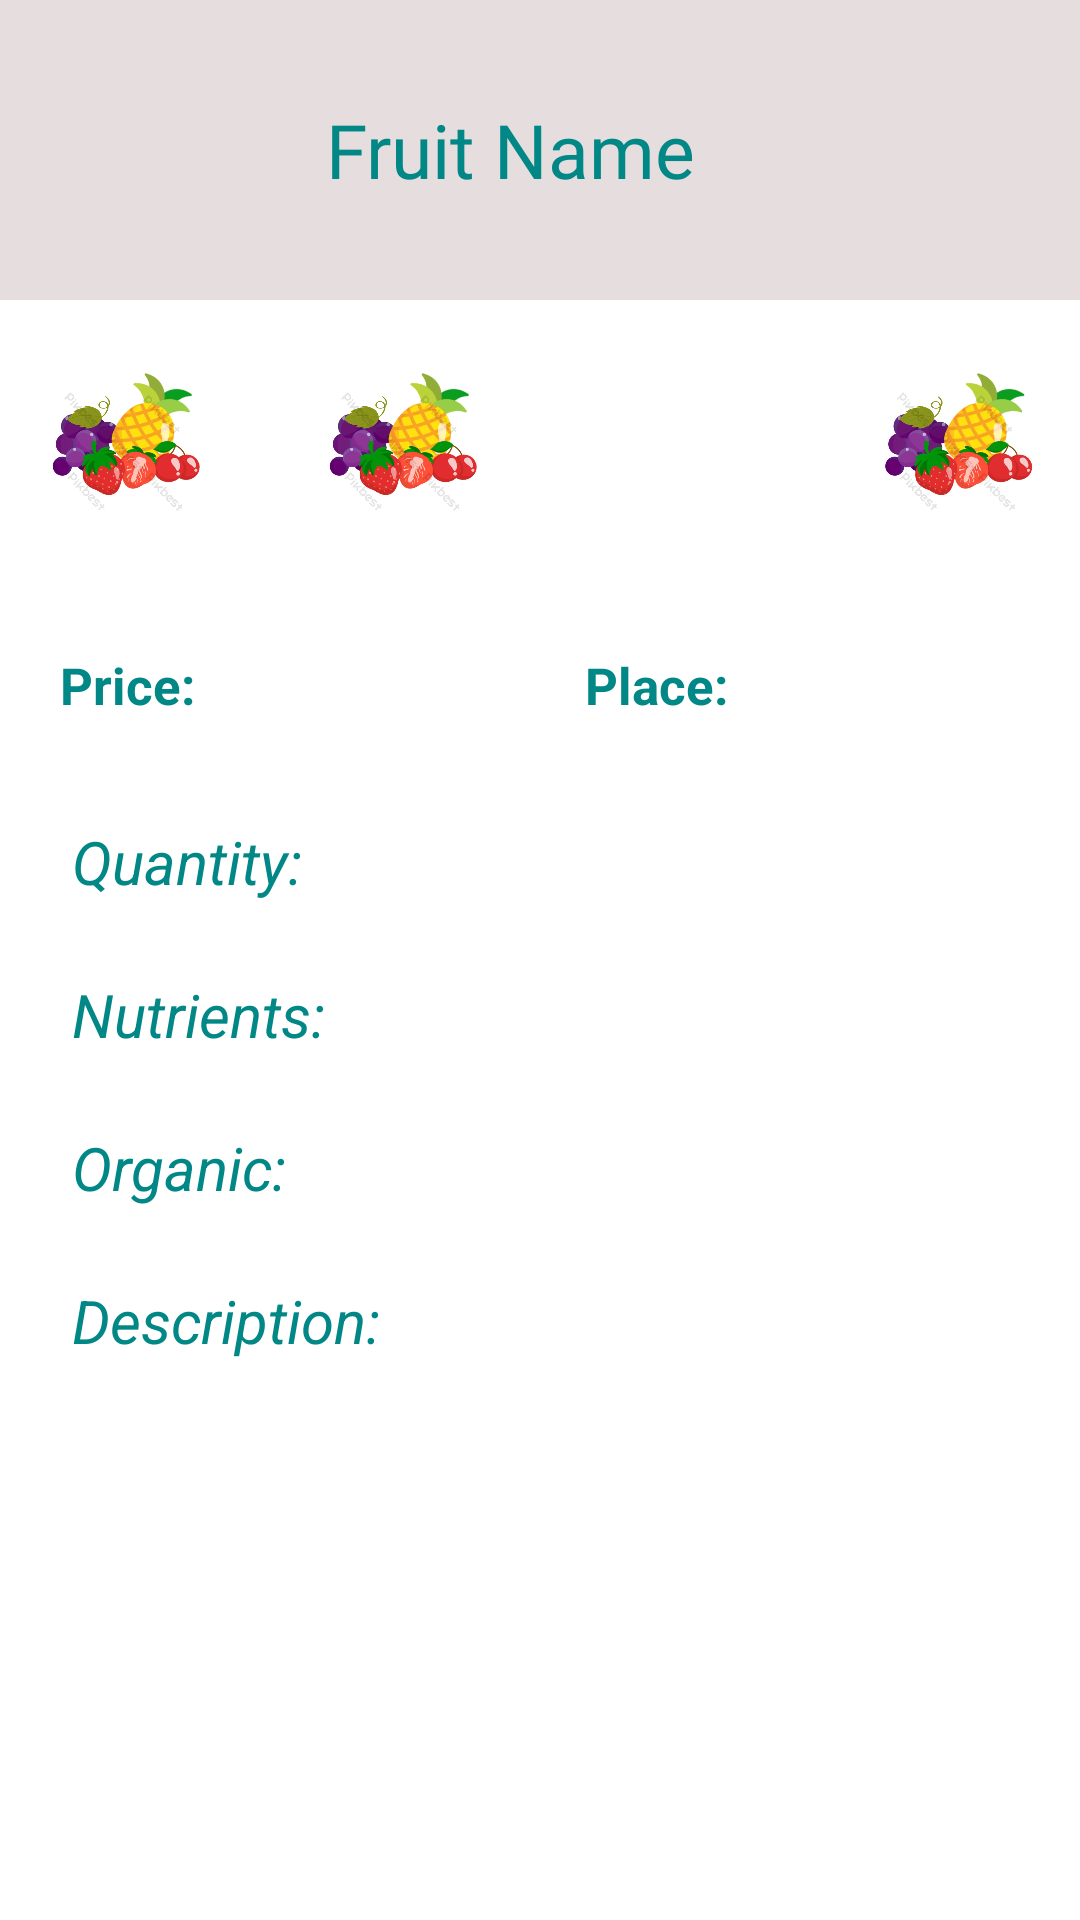

Icon bounding boxes for this 1080×1920 phone screenshot, format box=[x1, y1, x2, y2]:
fruits: box=[53, 373, 200, 510], box=[330, 373, 477, 510], box=[885, 373, 1032, 510]
